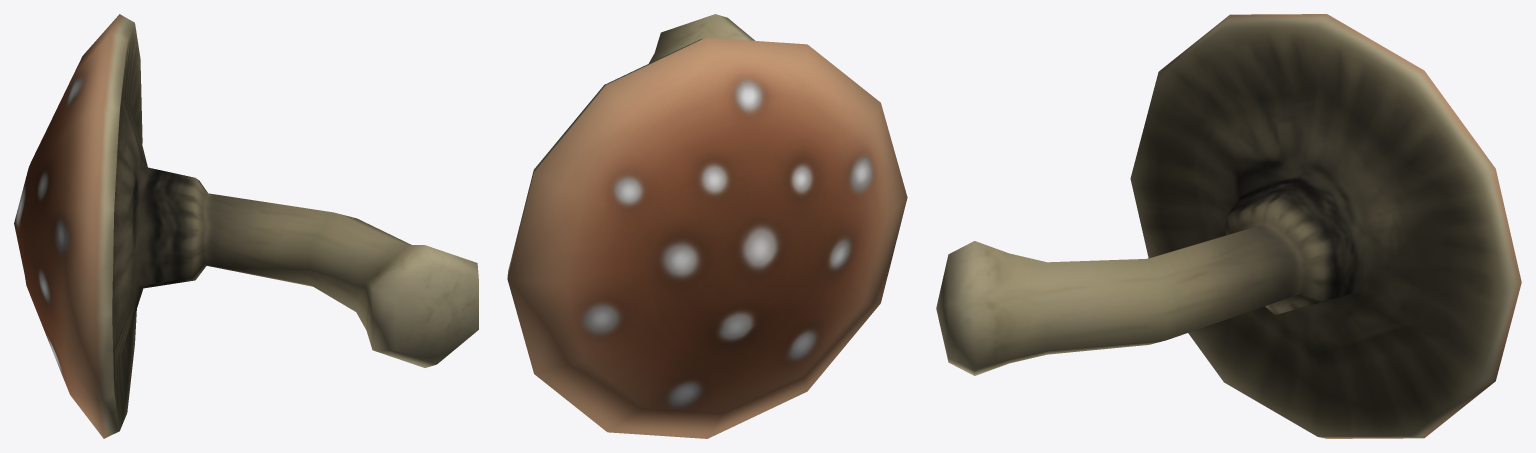
File: Mushroom_b_i.fbx
3 renders of one model, left to right at view 1: azimuth 30°, elevation 25°; view 2: azimuth 150°, elevation 25°; view 3: azimuth 270°, elevation 25°, orthographic. The views are drawn at different scales.
Parts seen in each view (by area): view 1: Mushroom_b_i; view 2: Mushroom_b_i; view 3: Mushroom_b_i.
Part boxes in pixels (x1=…): Mushroom_b_i: x1=14, y1=14, x2=478, y2=438; Mushroom_b_i: x1=507, y1=14, x2=907, y2=438; Mushroom_b_i: x1=936, y1=14, x2=1521, y2=438.
Bounding box in the file's own units: 23.77 × 27.97 × 34.92.
